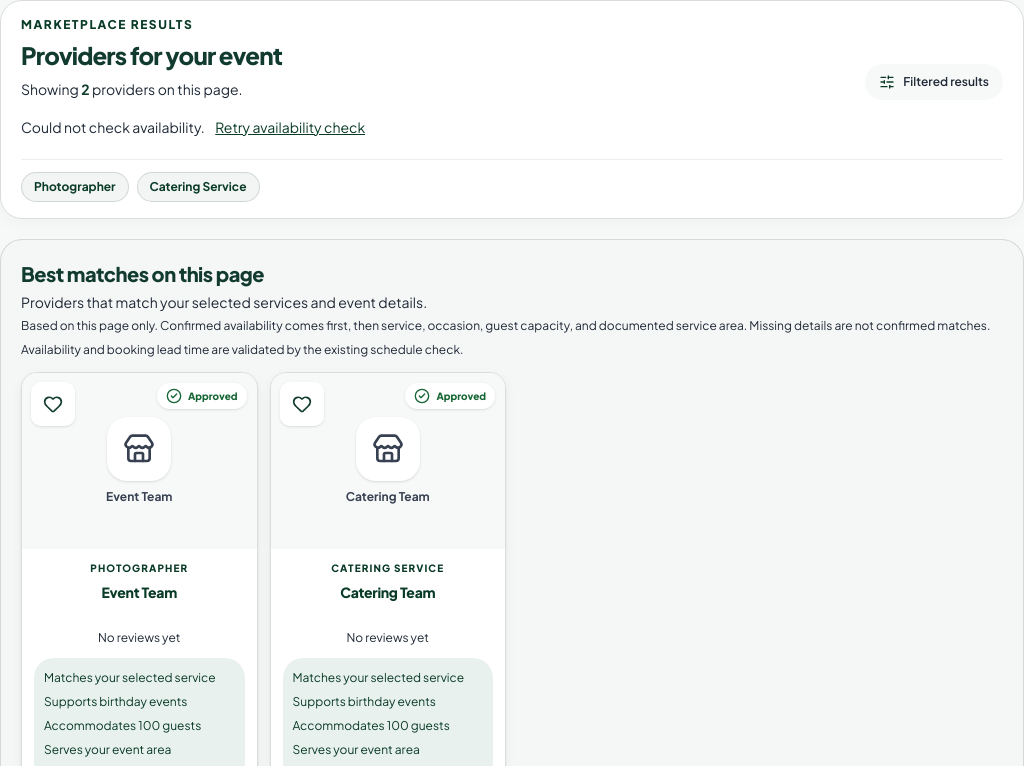
Scenario: page-scoped Best Fit UI › supports an availability error and retry without retaining old confirmation
Expected: the text "Available for your selected schedule" is not shown
Click the button "Retry availability check" at (290, 127), box [207, 107, 373, 147]
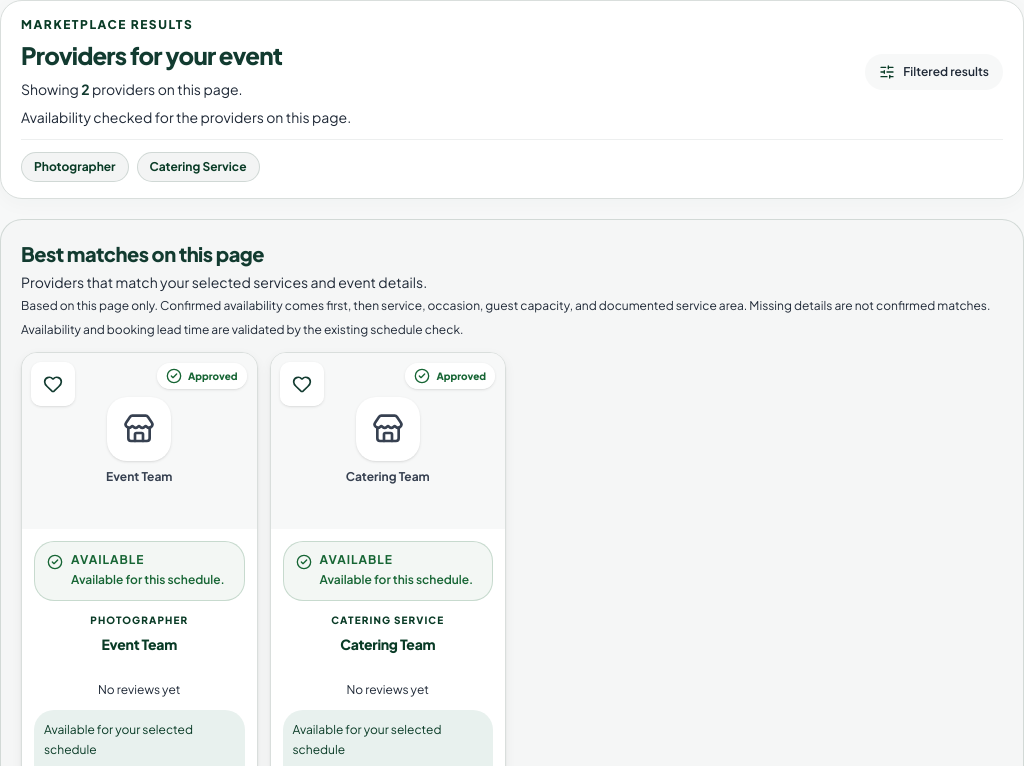
Expected: the number of list items "Available for your selected schedule" is 2, [44, 722, 193, 757]; [292, 722, 441, 757]
